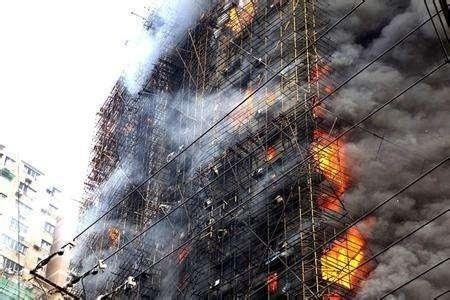fire: (314, 130, 369, 281), (319, 230, 365, 284), (310, 132, 347, 186), (310, 63, 335, 109), (228, 90, 258, 124), (225, 1, 257, 31), (176, 244, 190, 261), (106, 226, 119, 244), (265, 271, 277, 290), (264, 144, 276, 159)
